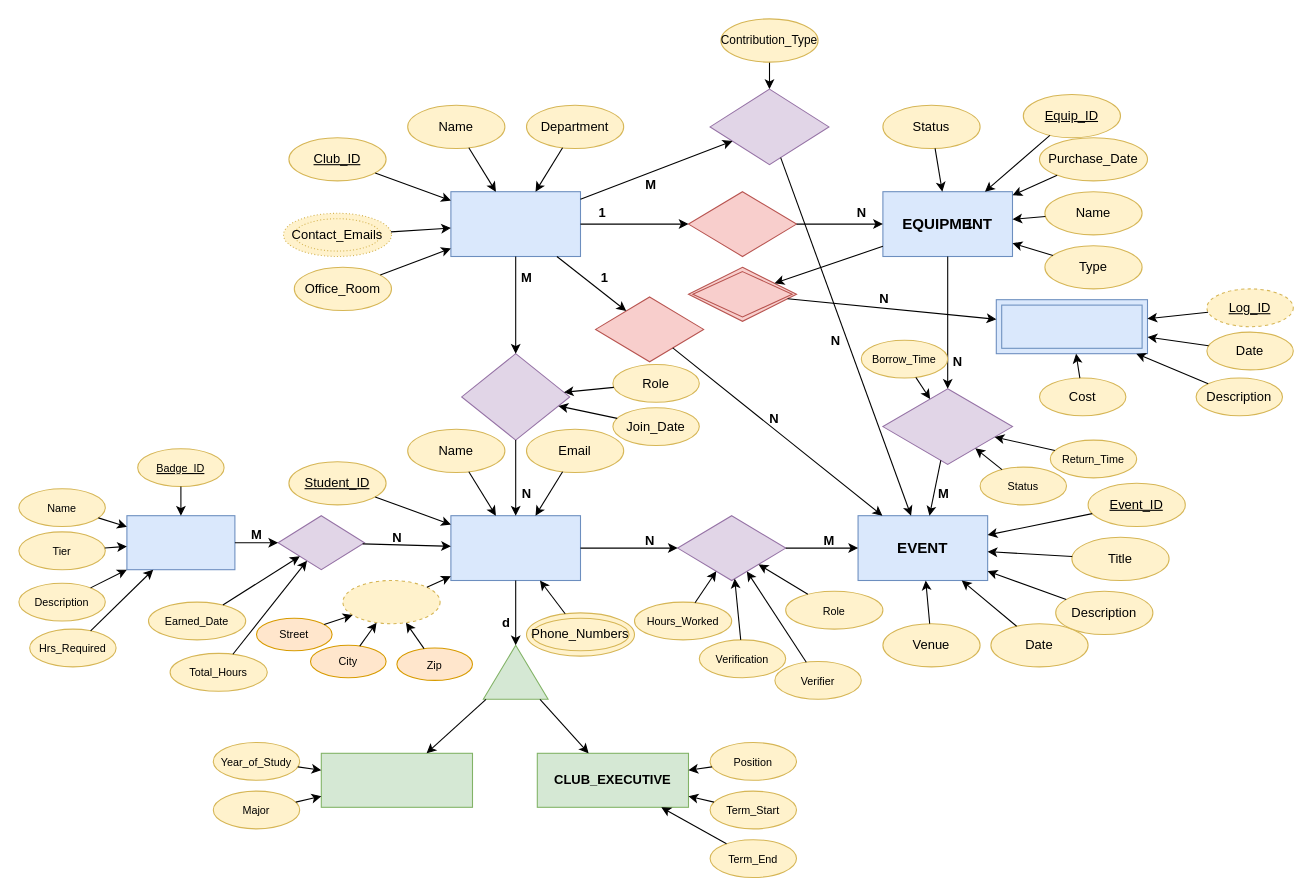
Image size: 1312x896. Some labels were removed from this diagram. Each missing label, with the box of its shape:
Address: (342, 579, 440, 624)
BADGE: (126, 515, 235, 570)
CLUB: (450, 191, 580, 256)
COLLABORATION: (709, 88, 829, 165)
earns: (277, 515, 364, 570)
GENERAL_STUDENT: (320, 752, 473, 807)
has_logs: (687, 266, 796, 321)
ISA: (482, 644, 548, 699)
MAINTENANCE_LOG: (1001, 304, 1142, 348)
MEMBERSHIP: (461, 353, 570, 440)
organizes: (595, 296, 704, 362)
owns: (687, 191, 796, 256)
RESOURCE_BOOKING: (882, 388, 1013, 464)
STUDENT: (450, 515, 580, 580)
volunteers_in: (677, 515, 786, 580)
